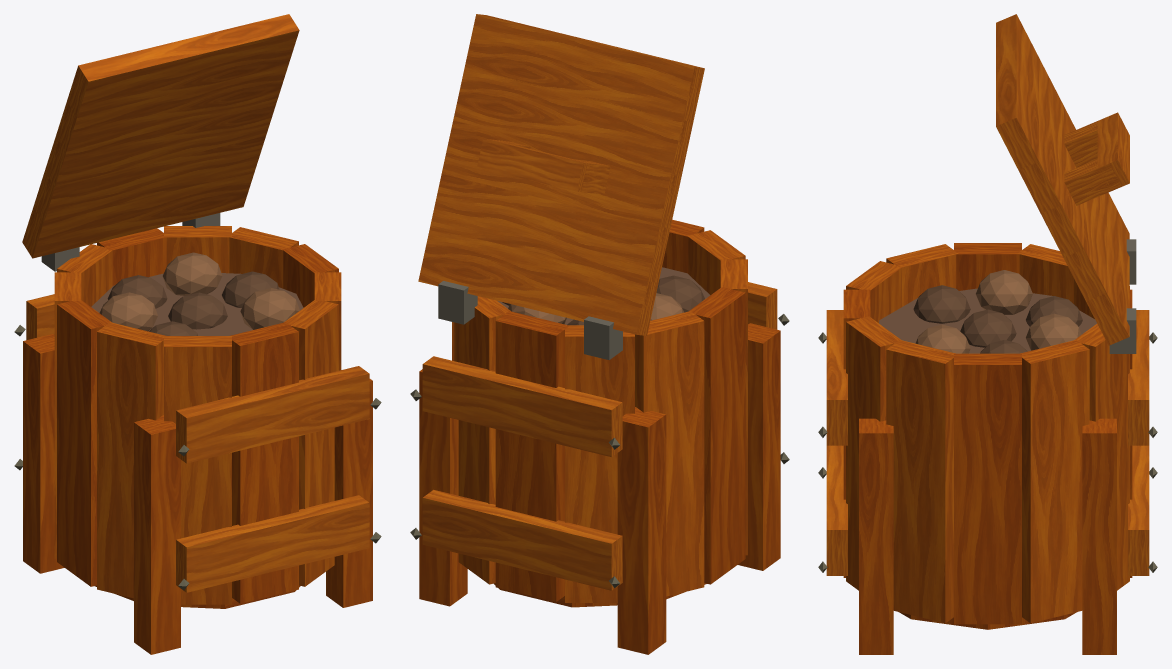
File: compost-barrel-ready.gltf
3 renders of one model, left to right at view 1: azimuth 30°, elevation 25°; view 2: azimuth 150°, elevation 25°; view 3: azimuth 270°, elevation 25°, orthographic. The views are drawn at different scales.
Parts seen in each view (by area): view 1: compost-barrel-ready; view 2: compost-barrel-ready; view 3: compost-barrel-ready.
Part boxes in pixels (x1,y1,x2,y2): compost-barrel-ready: (14,14,381,654); compost-barrel-ready: (410,14,789,654); compost-barrel-ready: (818,14,1157,654).
Size of the model in its own units: 0.705 by 1.44 by 0.8304.
2 materials, 1 textured.
